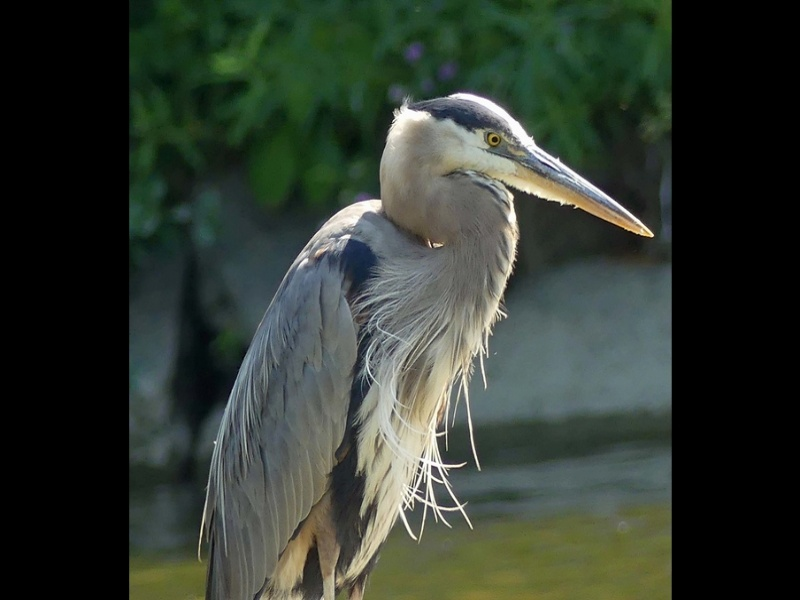heron: (198, 87, 656, 591)
